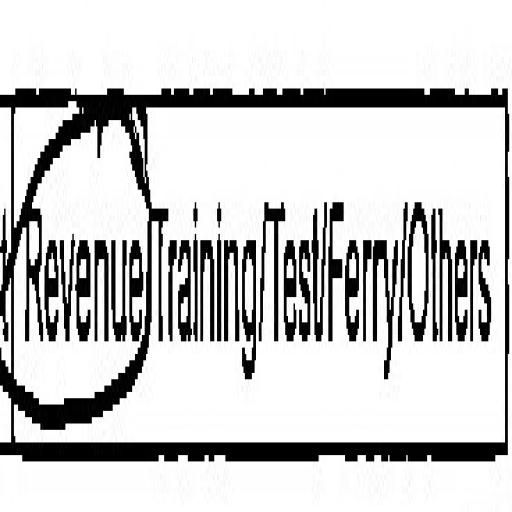check: (13, 0, 150, 512)
